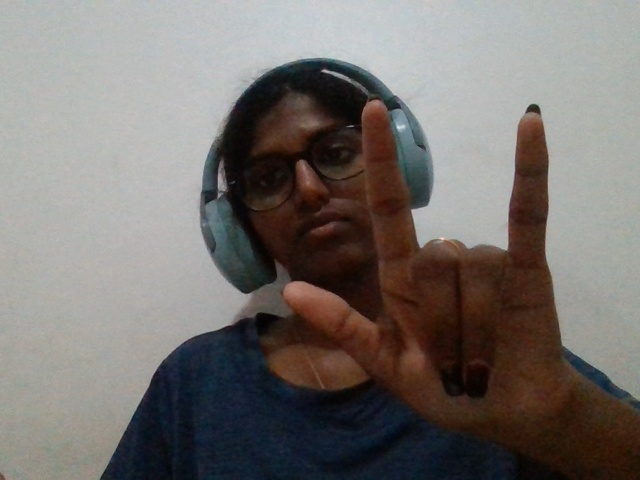I Love You: (263, 81, 630, 480)
